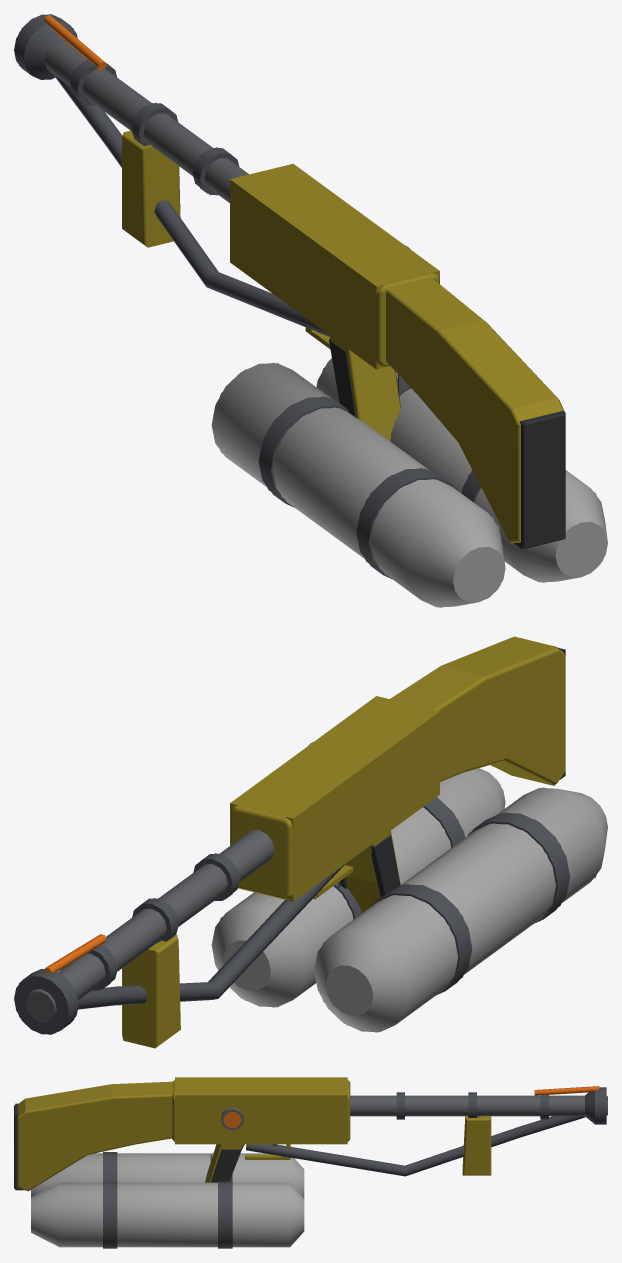
Rendered from flame.glb.
3 renders of one model, top to bottom at view 1: azimuth 30°, elevation 25°; view 2: azimuth 150°, elevation 25°; view 3: azimuth 270°, elevation 25°, orthographic. The views are drawn at different scales.
Parts seen in each view (by area): view 1: L0, L1; view 2: L0, L1; view 3: L0, L1.
Part boxes in pixels (x1=…): L0: x1=14, y1=14, x2=607, y2=607; L1: x1=19, y1=14, x2=607, y2=607; L0: x1=14, y1=636, x2=607, y2=1048; L1: x1=14, y1=649, x2=603, y2=1034; L0: x1=14, y1=1079, x2=607, y2=1248; L1: x1=15, y1=1077, x2=606, y2=1244.
Bounding box in the file's own units: 0.1903 × 0.2218 × 0.8258.
